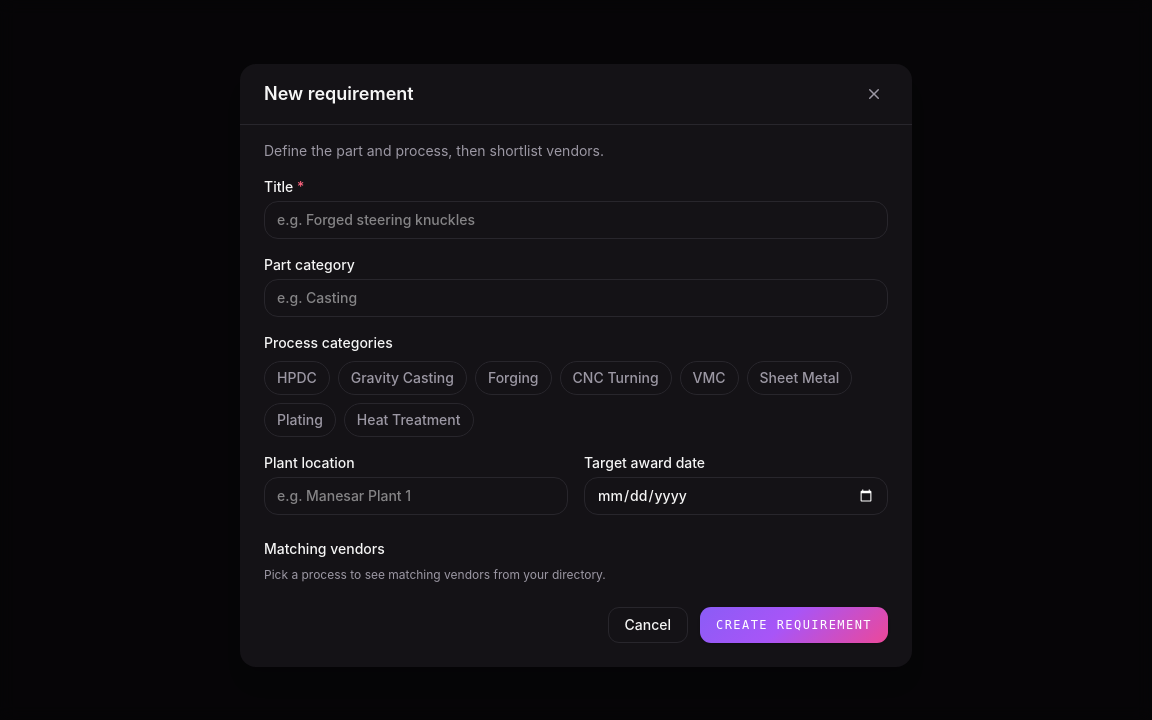
it: NewRequirementDrawer — in-flow shortlisting › shows an empty state when no directory vendor matches the chosen process
The image size is (1152, 720).
Click the button "CNC Turning" at (616, 378), box top-left (560, 361), bottom-right (672, 395)
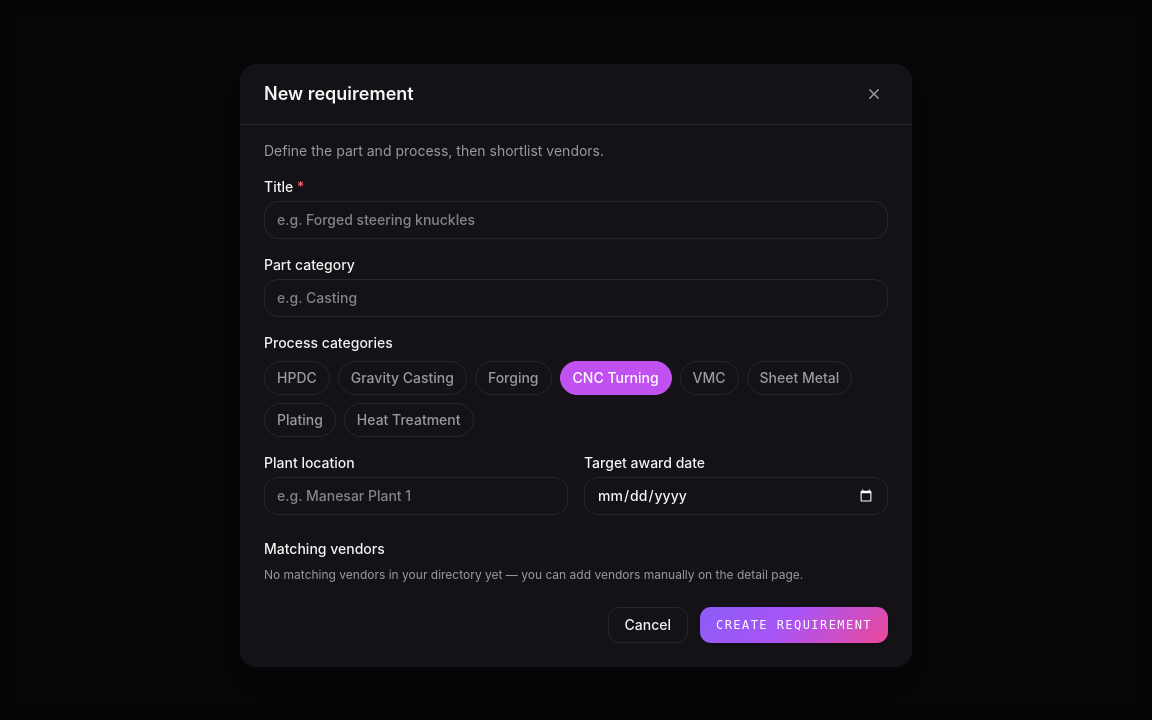
Expected: the text "No matching vendors in your directory" is shown, top-left (264, 567), bottom-right (803, 582)
